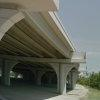Bridge: (1, 6, 94, 88)
